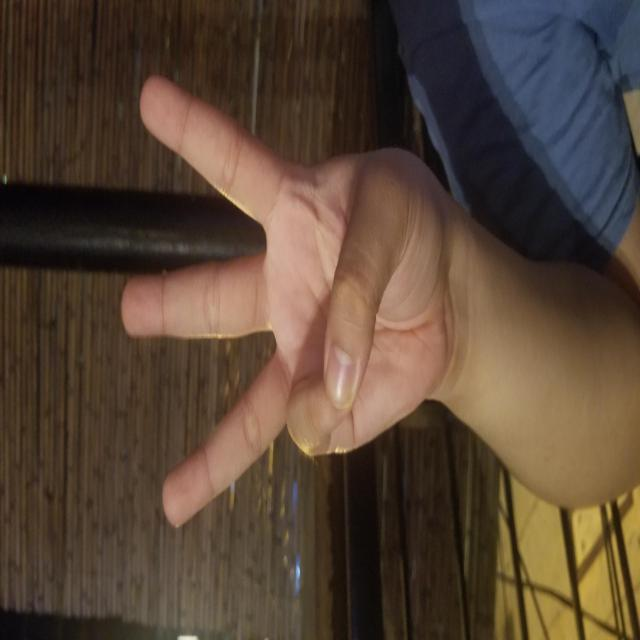W: (110, 120, 568, 446)
